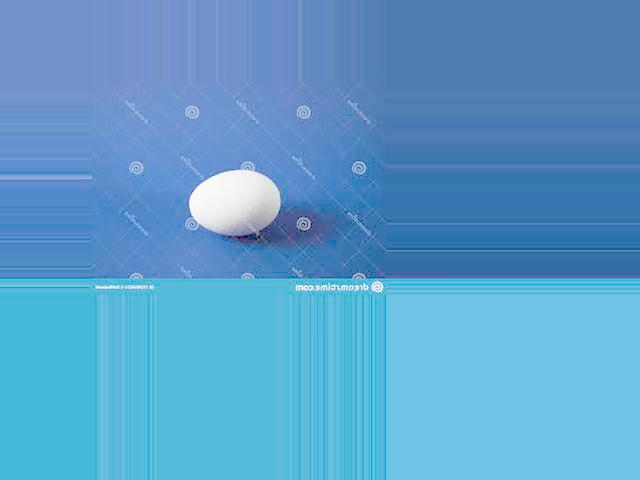egg: (188, 170, 280, 236)
